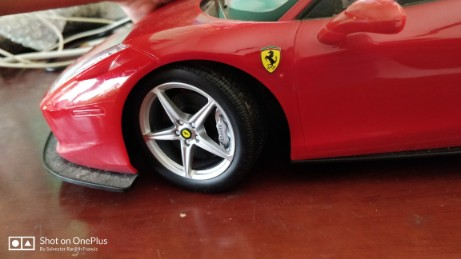unaligned_wheel: (135, 62, 278, 194)
